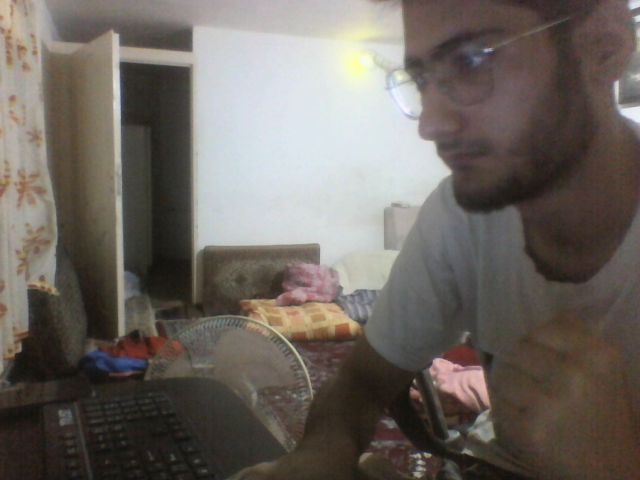attack: (493, 309, 632, 478)
sorat: (403, 1, 637, 215)
